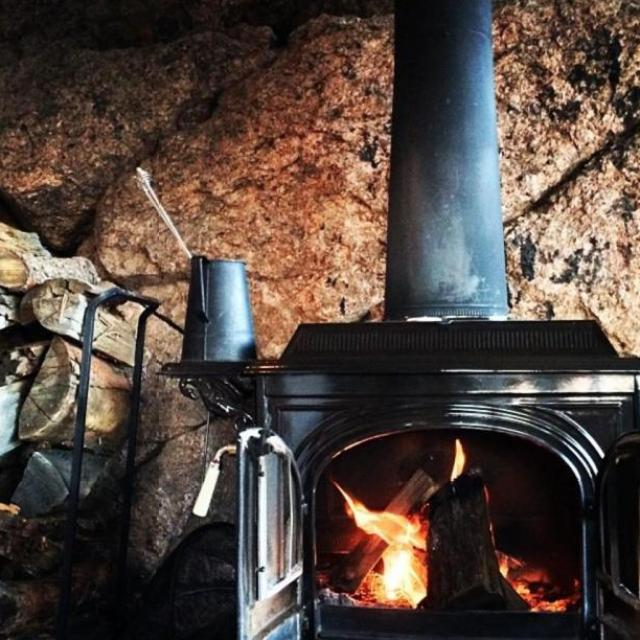smoke: (328, 475, 430, 622), (446, 434, 468, 484)
